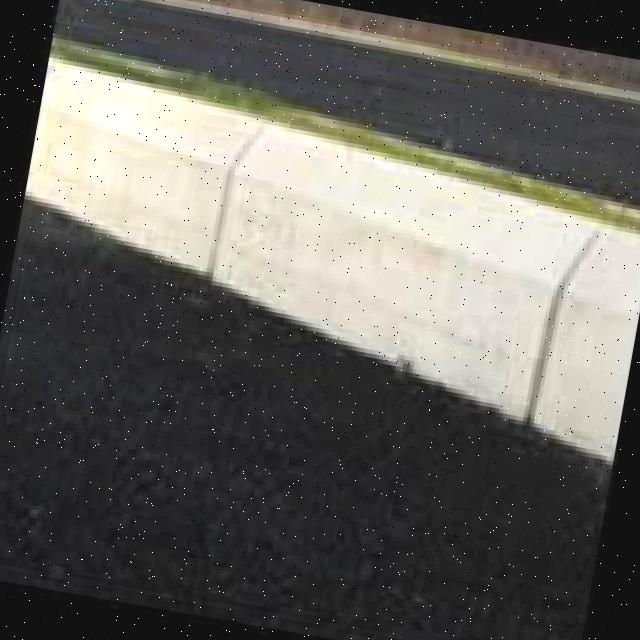curb: (236, 110, 640, 478), (12, 37, 286, 320)
